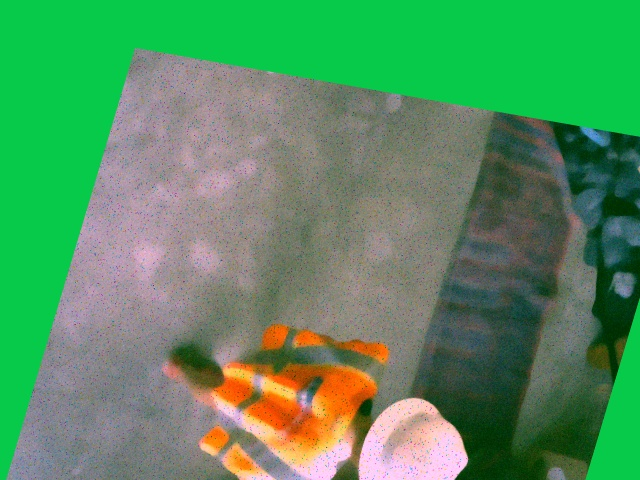three: (382, 436, 435, 479)
